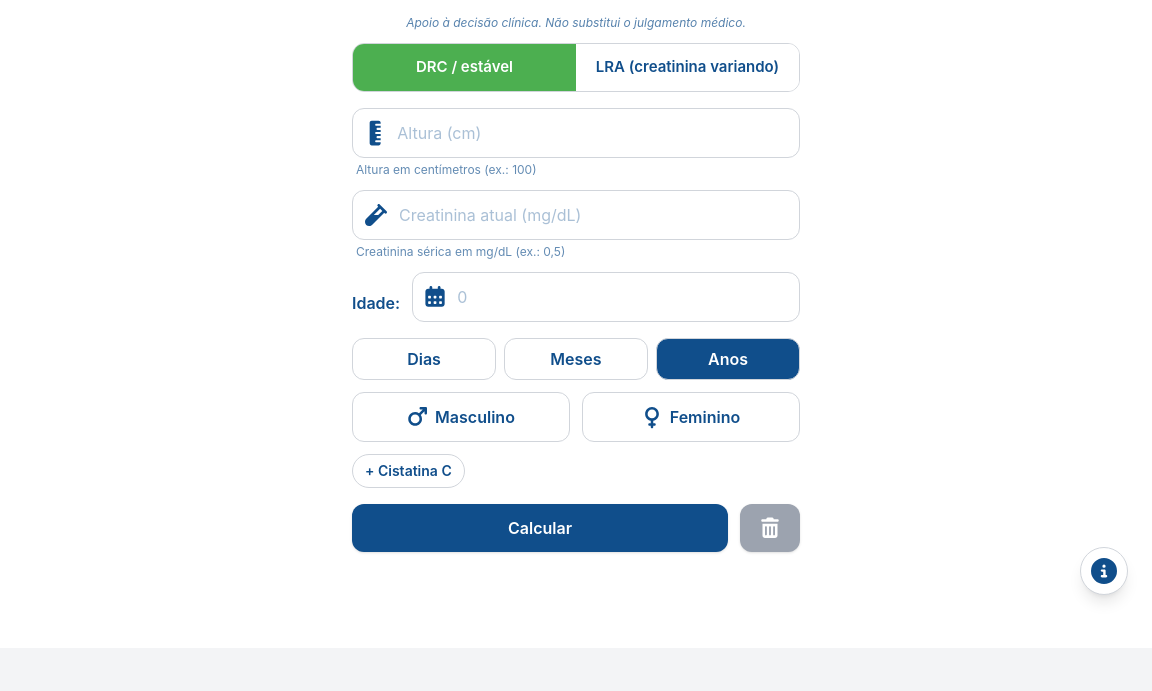
Test: TFG Pediátrica (interface) › DRC: CKiD U25, comparação com bedside, aviso de creatinina estável e nada guardado
The image size is (1152, 691).
In the field with placeholder "Altura (cm)": (592, 132) [397,108,787,156], type "140"
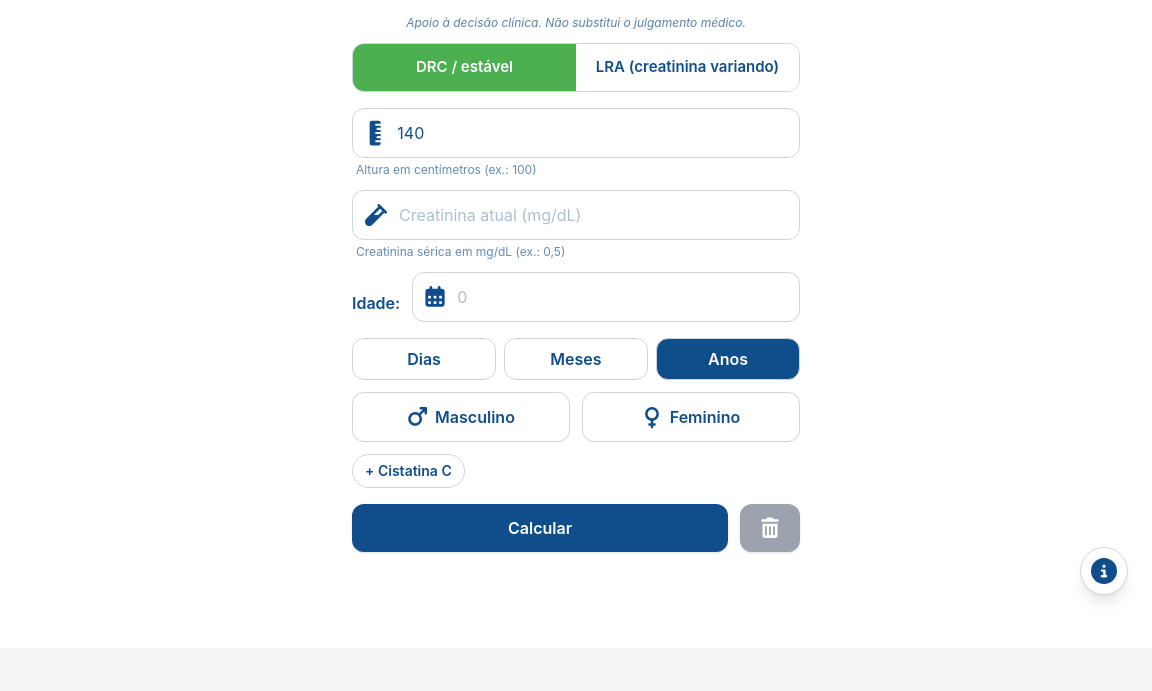
In the field with placeholder "Creatinina atual (mg/dL)": (593, 214) [399,190,787,238], type "0,6"
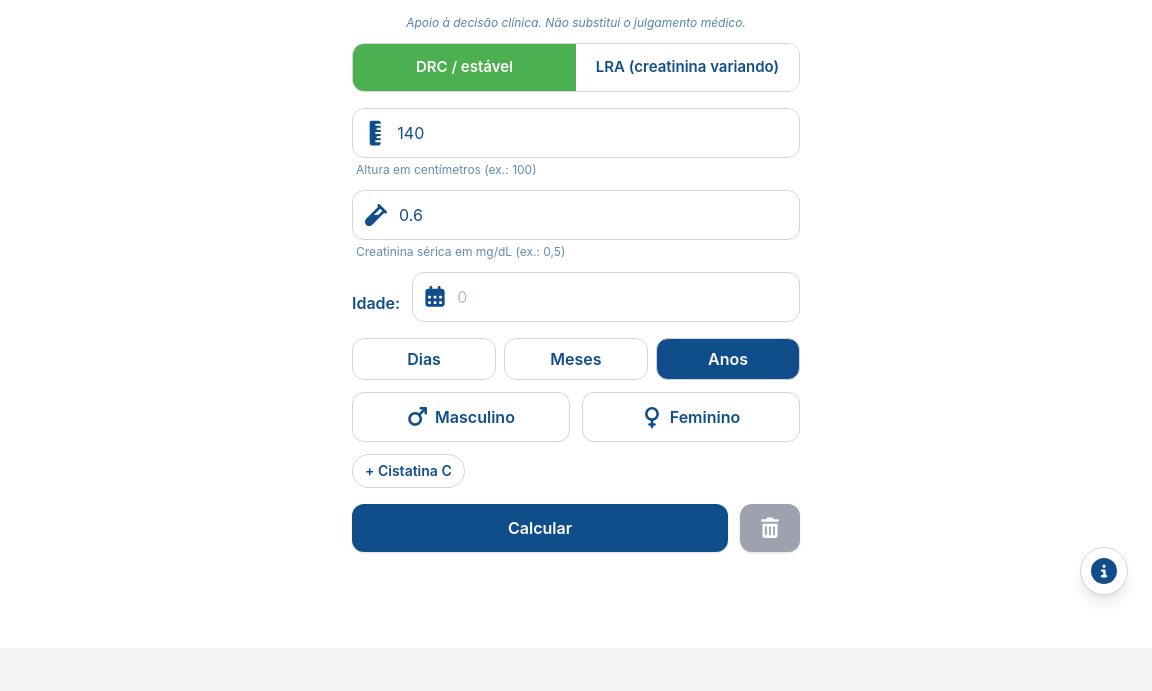
In the field named "Idade": (622, 296) [457,272,787,320], type "10"
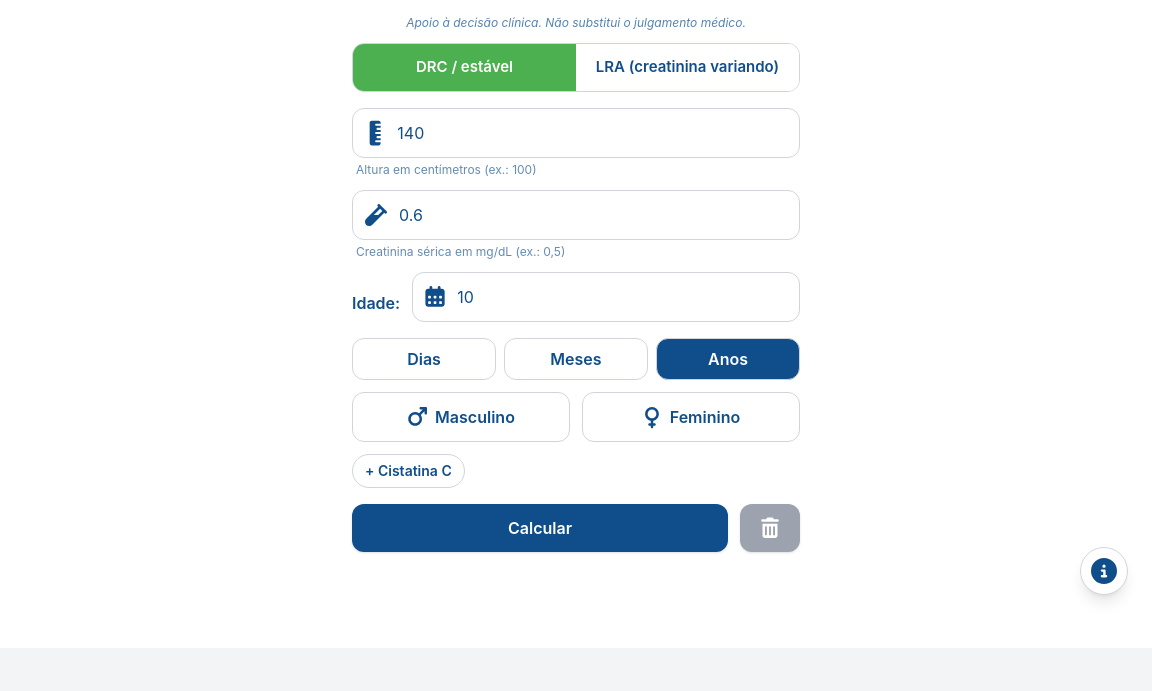
Click the button "Feminino": (691, 416) [582,392,800,442]
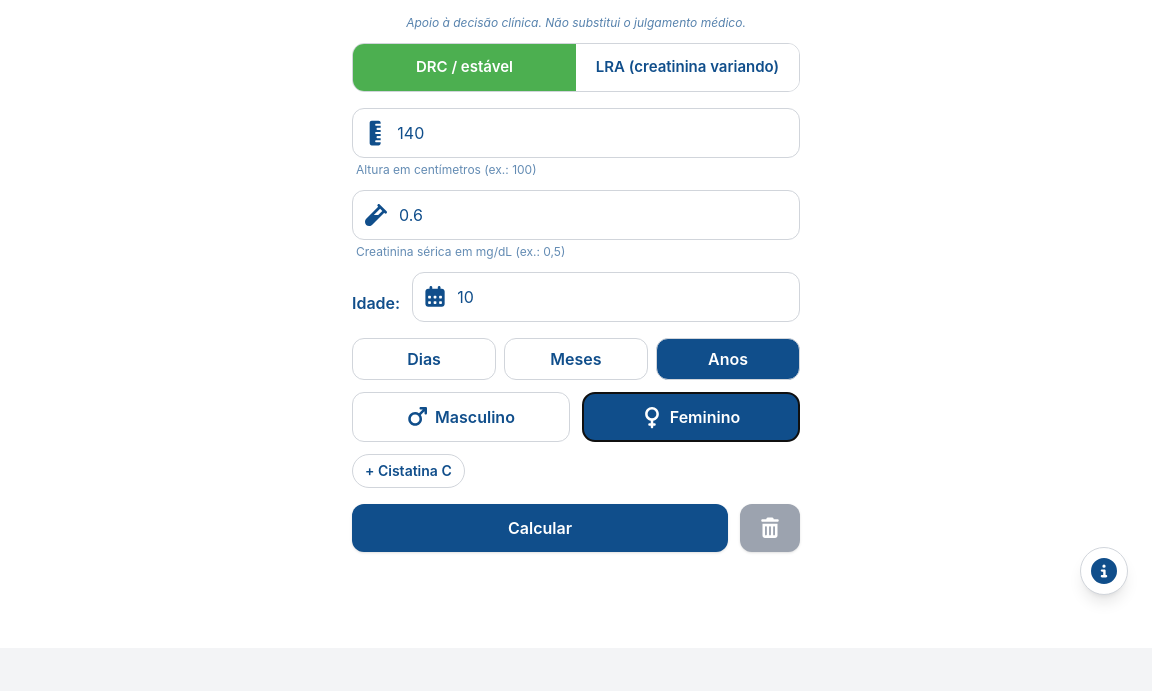
Click the button "Calcular": (540, 528) [352,504,728,552]
(page scrolled)
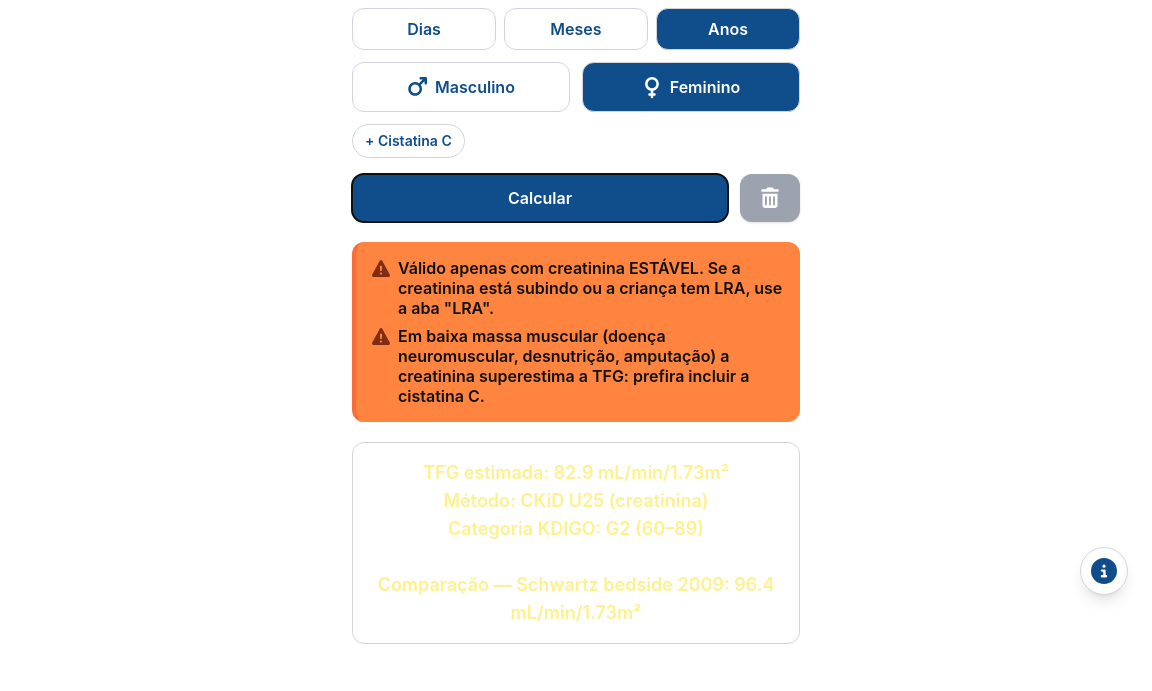
Expected: the 2nd message shows "TFG estimada: 82.9 mL/min/1.73m²", [378,462,774,622]
Expected: the 2nd message shows "Método: CKiD U25 (creatinina)", [378,462,774,622]
Expected: the 2nd message shows "Categoria KDIGO: G2", [378,462,774,622]
